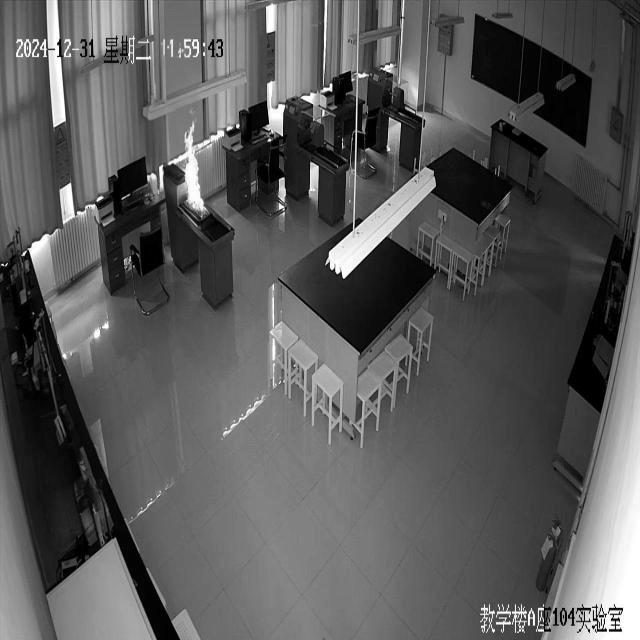smoke: (180, 110, 210, 222)
